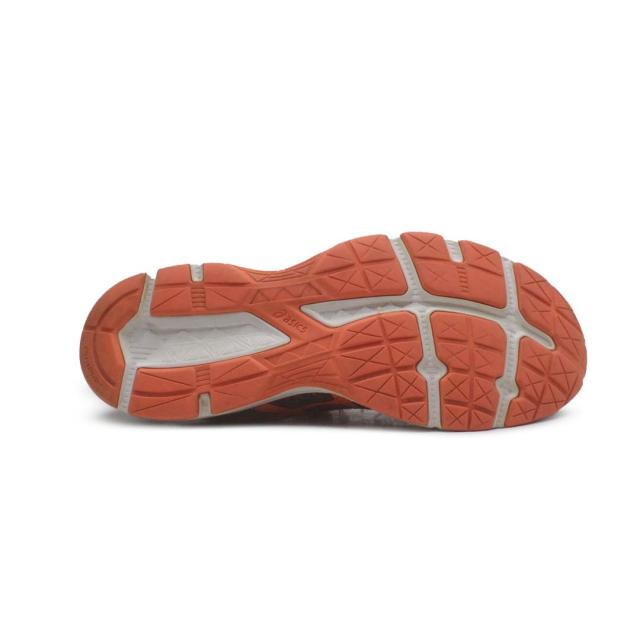outersole: (81, 239, 585, 434)
